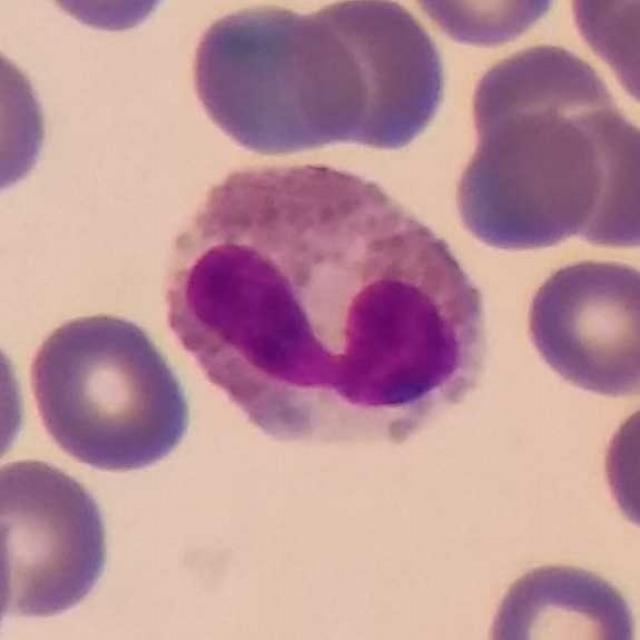Eosinophil: (146, 138, 505, 464)
RBC: (182, 0, 370, 160), (23, 305, 196, 476), (285, 0, 453, 156), (448, 110, 606, 255), (464, 39, 622, 171), (1, 453, 117, 629), (519, 252, 639, 401), (540, 102, 640, 255), (478, 554, 640, 639), (0, 31, 56, 206), (568, 0, 640, 118), (400, 0, 566, 50), (594, 386, 640, 543), (22, 0, 186, 38), (0, 316, 32, 483), (0, 493, 19, 640)
